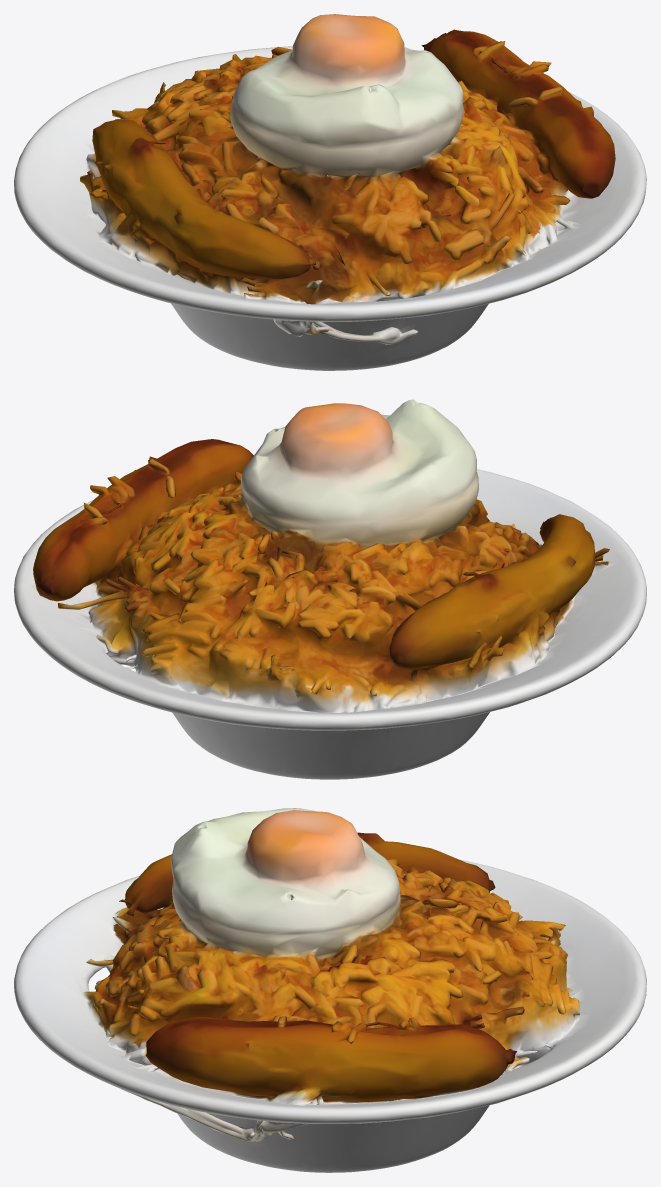
The model's file is MajaditoModel.glb.
3 renders of one model, top to bottom at view 1: azimuth 30°, elevation 25°; view 2: azimuth 150°, elevation 25°; view 3: azimuth 270°, elevation 25°, orthographic.
Parts seen in each view (by area): view 1: tripo_node_ca0d2f21-637f-41ea-a54f-bdc84b8bb0d0; view 2: tripo_node_ca0d2f21-637f-41ea-a54f-bdc84b8bb0d0; view 3: tripo_node_ca0d2f21-637f-41ea-a54f-bdc84b8bb0d0.
Part boxes in pixels (<box>): tripo_node_ca0d2f21-637f-41ea-a54f-bdc84b8bb0d0: <box>14,14,646,370</box>; tripo_node_ca0d2f21-637f-41ea-a54f-bdc84b8bb0d0: <box>14,399,646,779</box>; tripo_node_ca0d2f21-637f-41ea-a54f-bdc84b8bb0d0: <box>14,808,646,1172</box>.
Bounding box in the file's own units: 0.9798 × 0.5008 × 0.98.
Materials: 1 (1 with a texture image).
